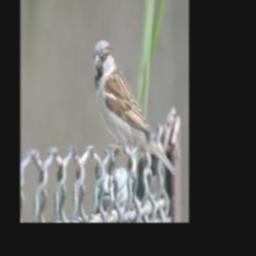Sparrow: (93, 39, 176, 179)
